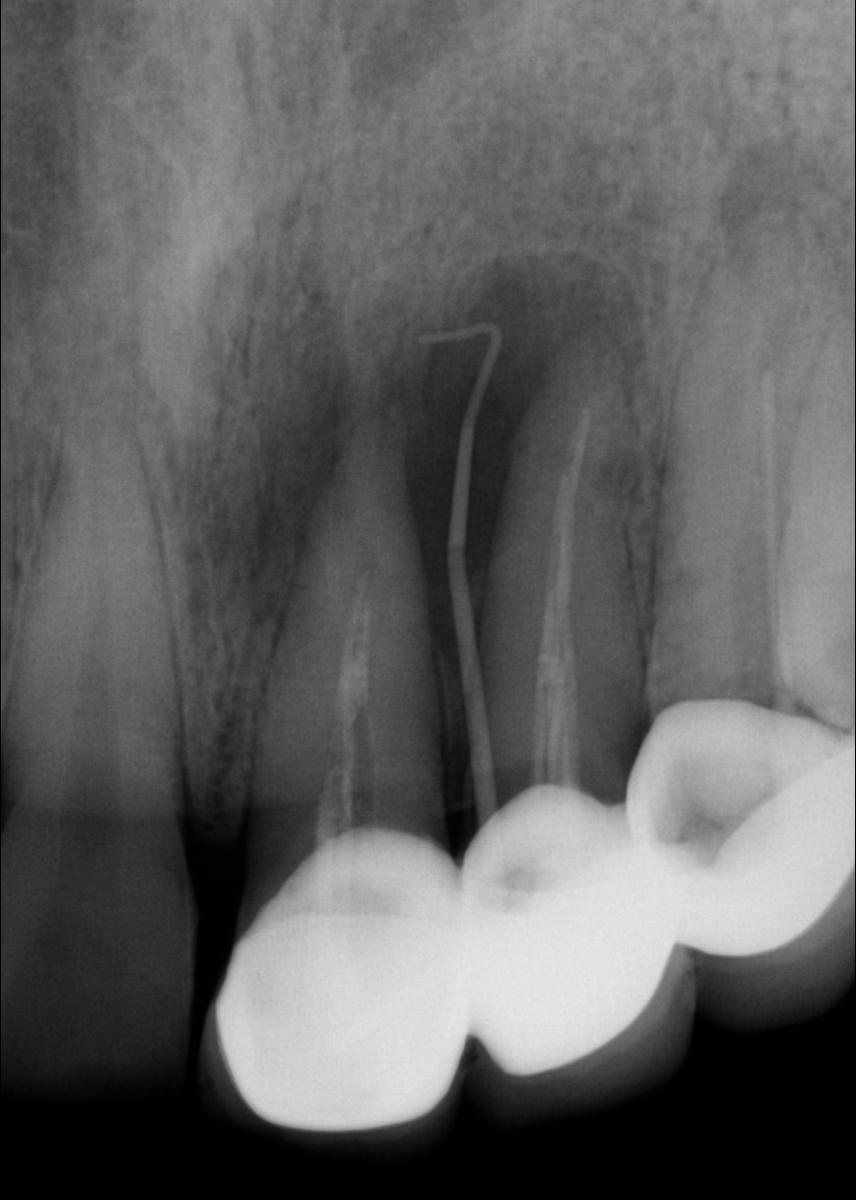Furcation Involvement: (173, 166, 647, 814), (722, 141, 856, 325)
